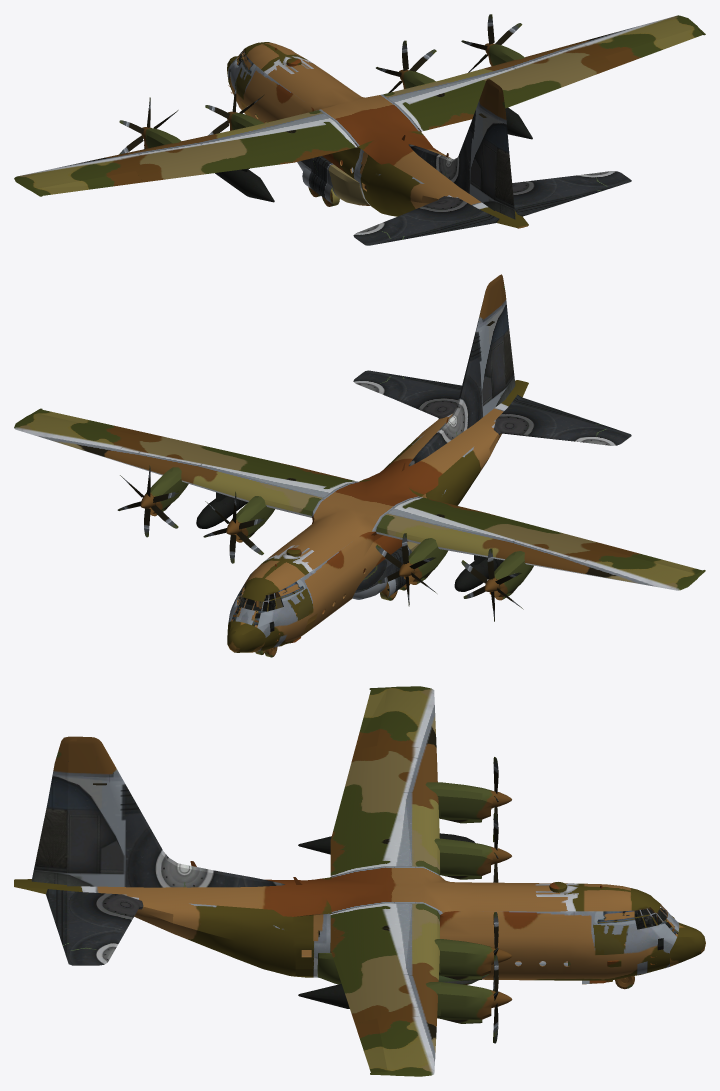
Rendered from Karnaf.gltf.
The picture shows the model from 3 angles, top to bottom: view 1: azimuth 30°, elevation 25°; view 2: azimuth 150°, elevation 25°; view 3: azimuth 270°, elevation 25°; orthographic projection. The views are drawn at different scales.
Visible parts, largest first — view 1: node3, node1, node2; view 2: node3, node1, node2; view 3: node3, node1, node2.
Boxes of the visible parts, x1,y1,x2,y2 form: node3: [14, 14, 705, 245]; node1: [227, 42, 528, 228]; node2: [215, 51, 532, 202]; node3: [14, 274, 705, 657]; node1: [227, 380, 528, 652]; node2: [196, 492, 503, 631]; node3: [31, 686, 634, 1076]; node1: [14, 861, 705, 984]; node2: [298, 833, 671, 1008].
Size of the model in its own units: 39.76 by 11.81 by 29.81.
